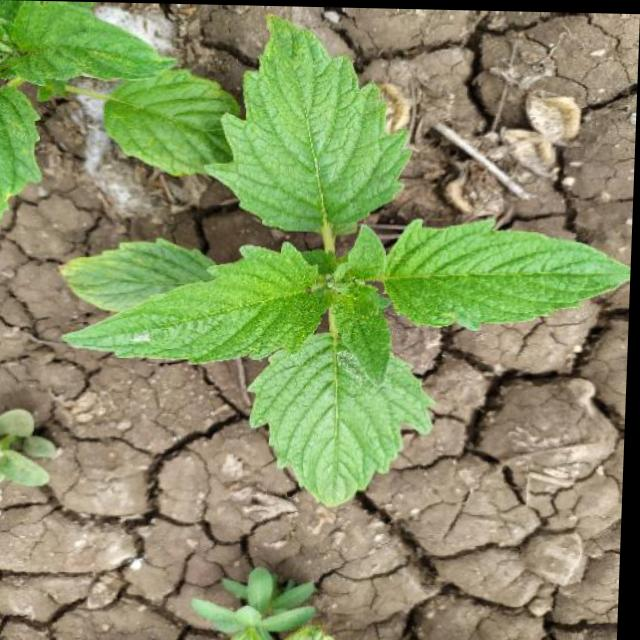crop: (55, 34, 639, 515)
